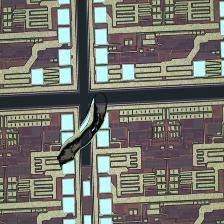BLOCK ETCH: (53, 91, 114, 170)
